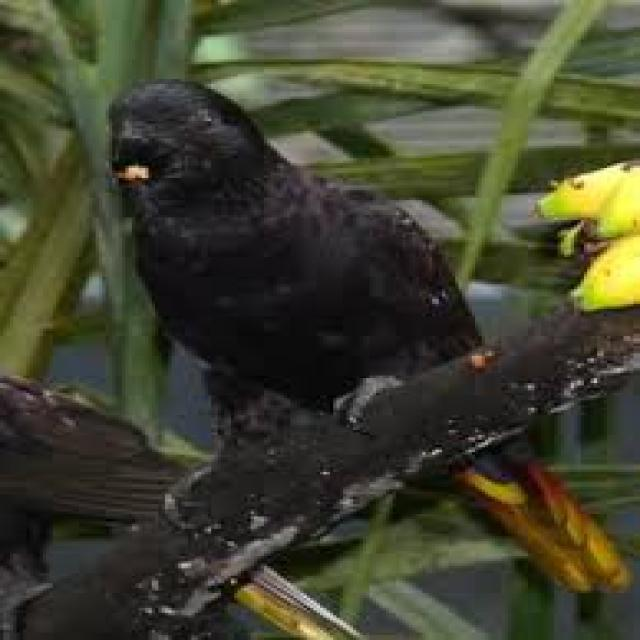Nuri Hitam: (74, 69, 640, 600), (0, 353, 373, 640)
